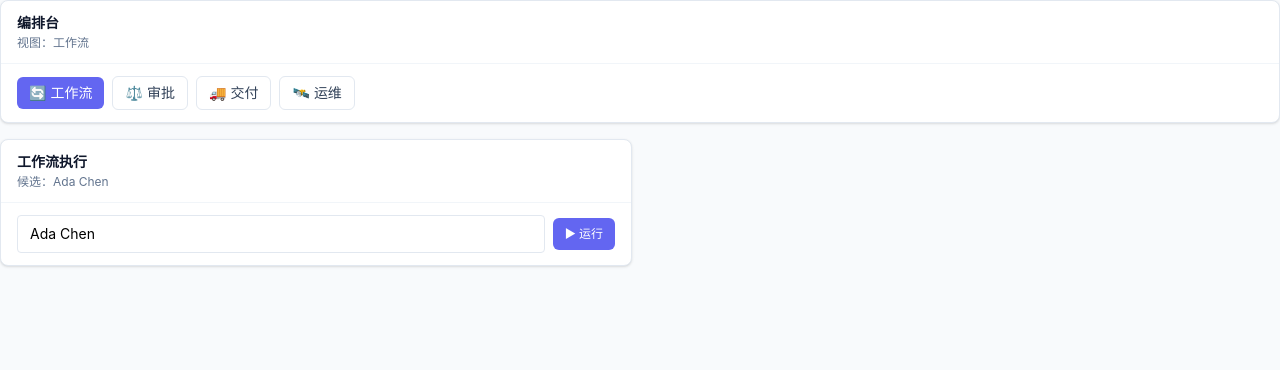
Test case: V132 ConsoleShell parity with monolith › run workflow (workflow panel) replaces monolith POST /api/team-orchestration/workflow
Click the button with test id "workflow-run-button". click: (584, 234)
box: [553,218,615,250]
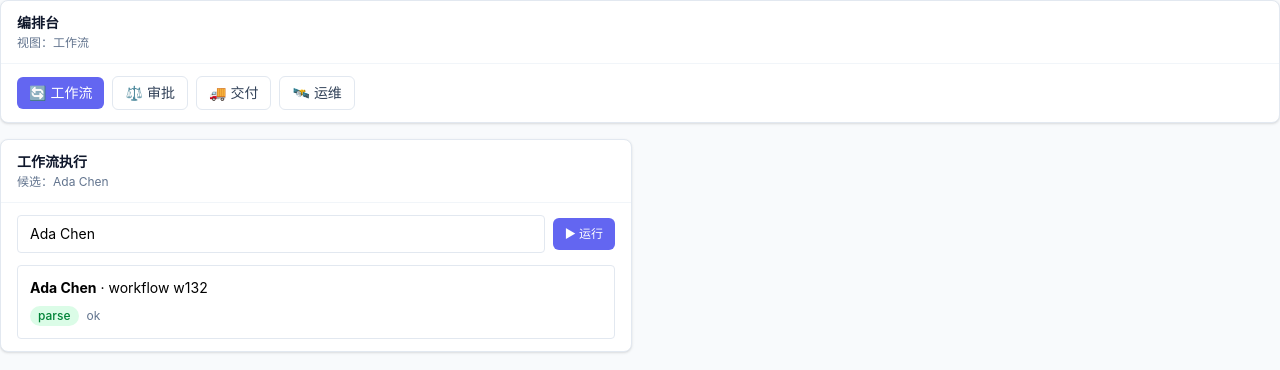
Expected: the element with test id "workflow-result" is shown, [17,265,615,339]
